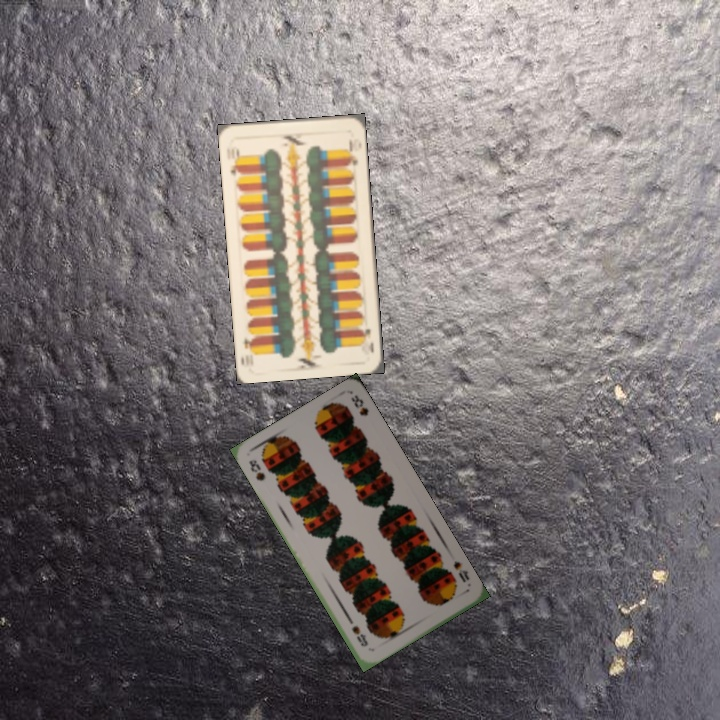E10: (227, 144, 244, 178), (357, 325, 376, 355)
S8: (449, 557, 472, 585), (245, 456, 268, 484)
